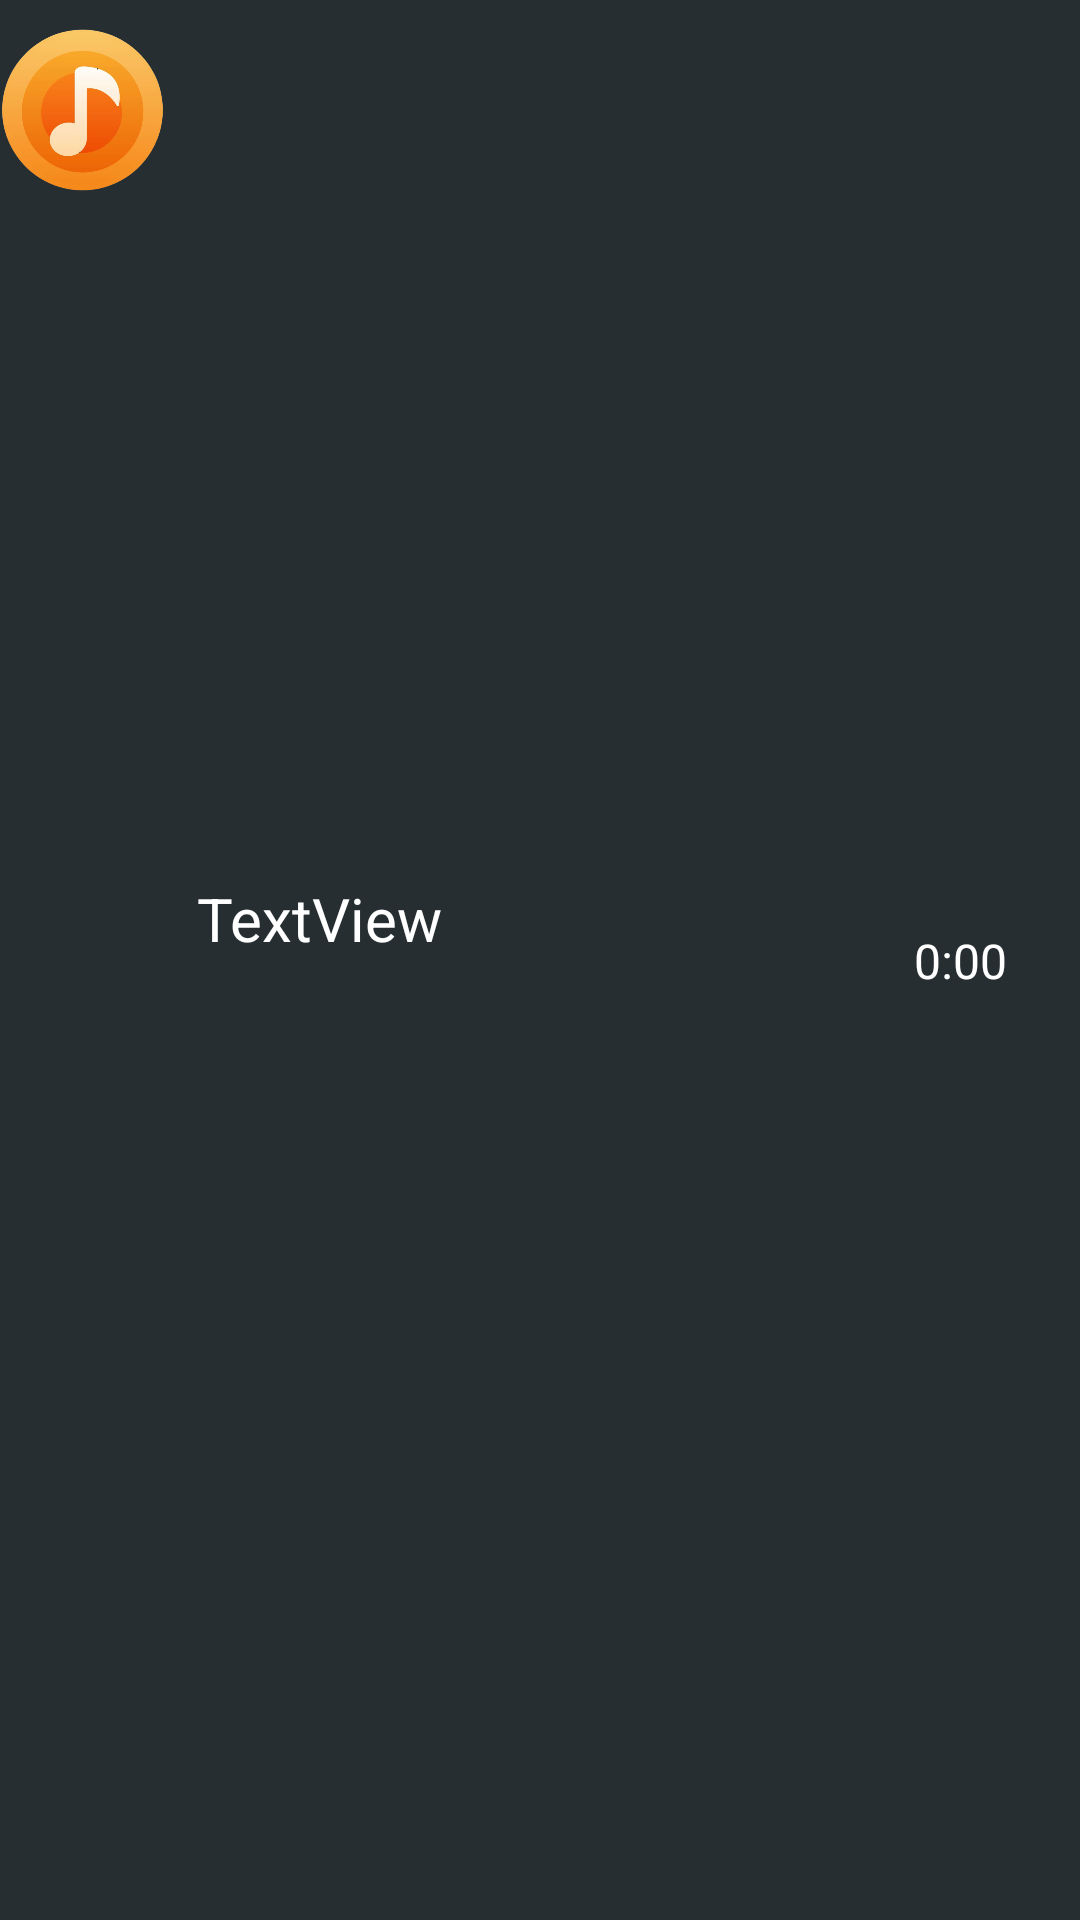

Locate icon controls on the screen. Image size 1080px x 1920px, boxes as (x1, y1, x2, y2).
music: (2, 29, 163, 191)
